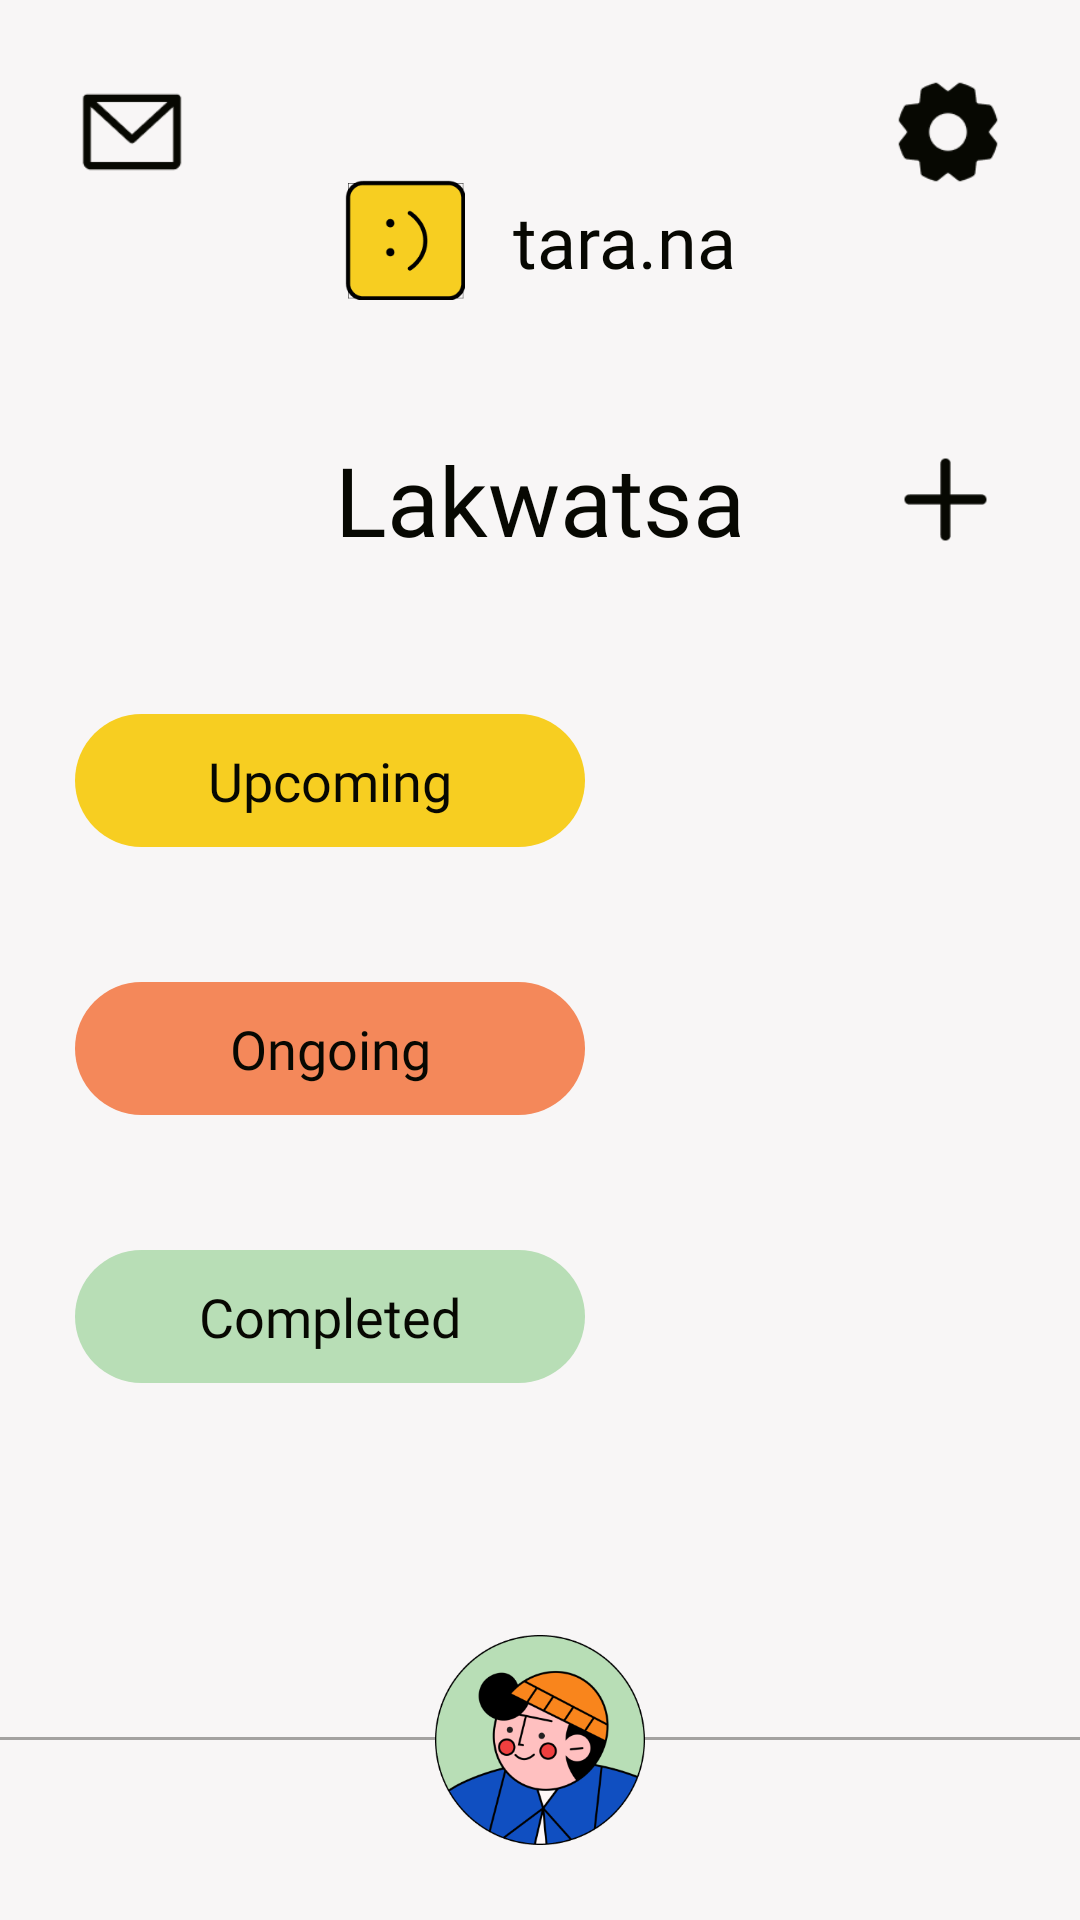

Icons on this 1080w x 1920h Android screen, each with its box as (x1, y1, x2, y2):
add: (904, 458, 987, 541)
inbox: (82, 93, 182, 171)
profile: (435, 1635, 645, 1845)
settings: (898, 82, 998, 182)
